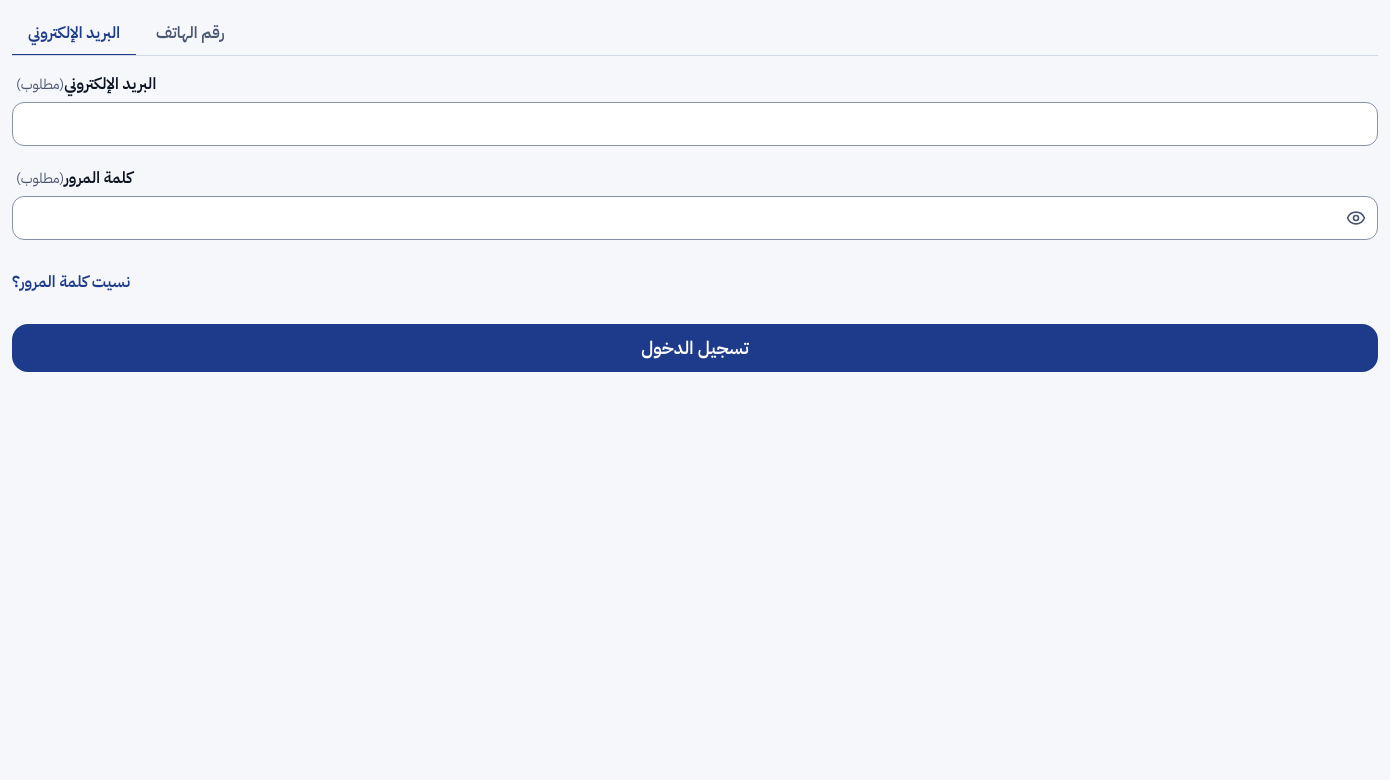
Test: LoginForm › says why an unverified address cannot sign in and offers to resend the link
In the field labelled "البريد الإلكتروني(مطلوب)": (695, 124) [12,102,1378,146], type "Sara@Example.com"
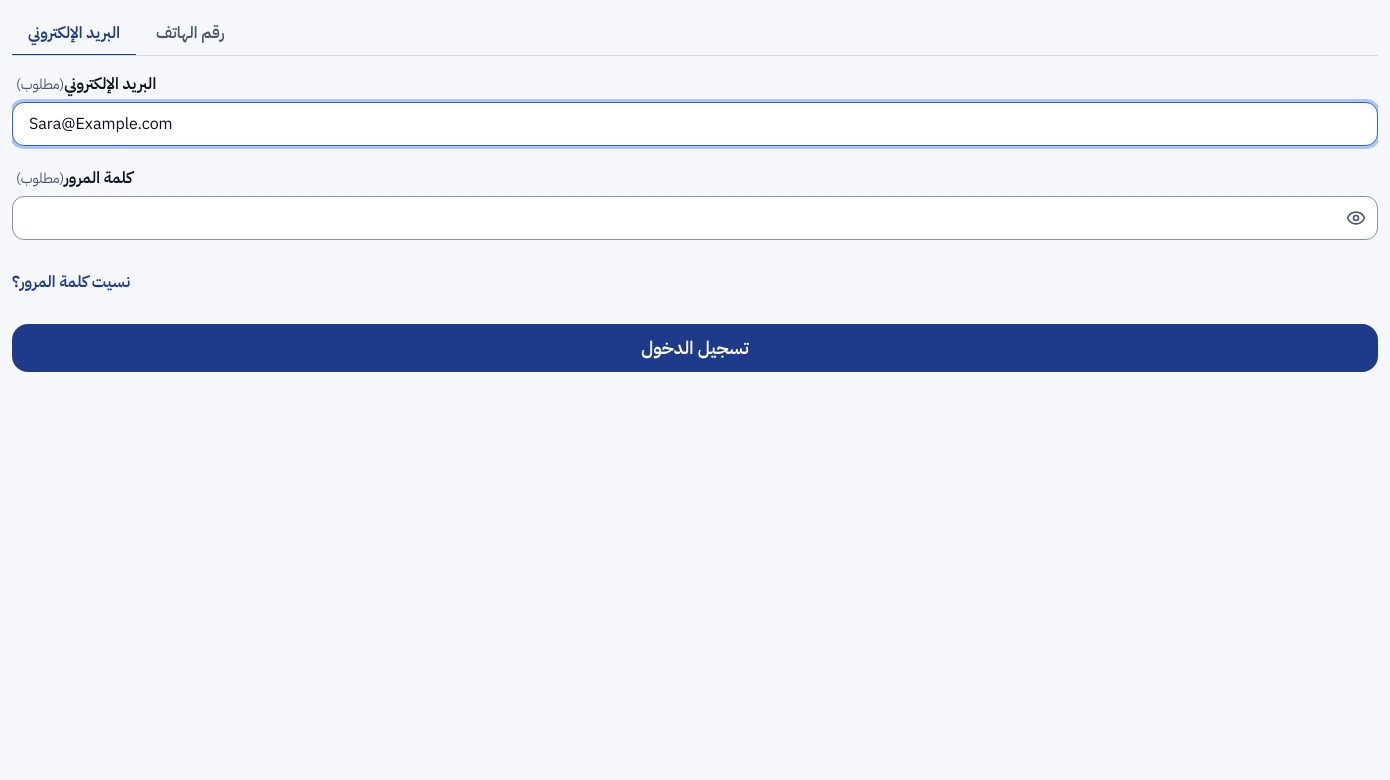
In the password field named "password": (695, 218) [12,196,1378,240], type "secret"
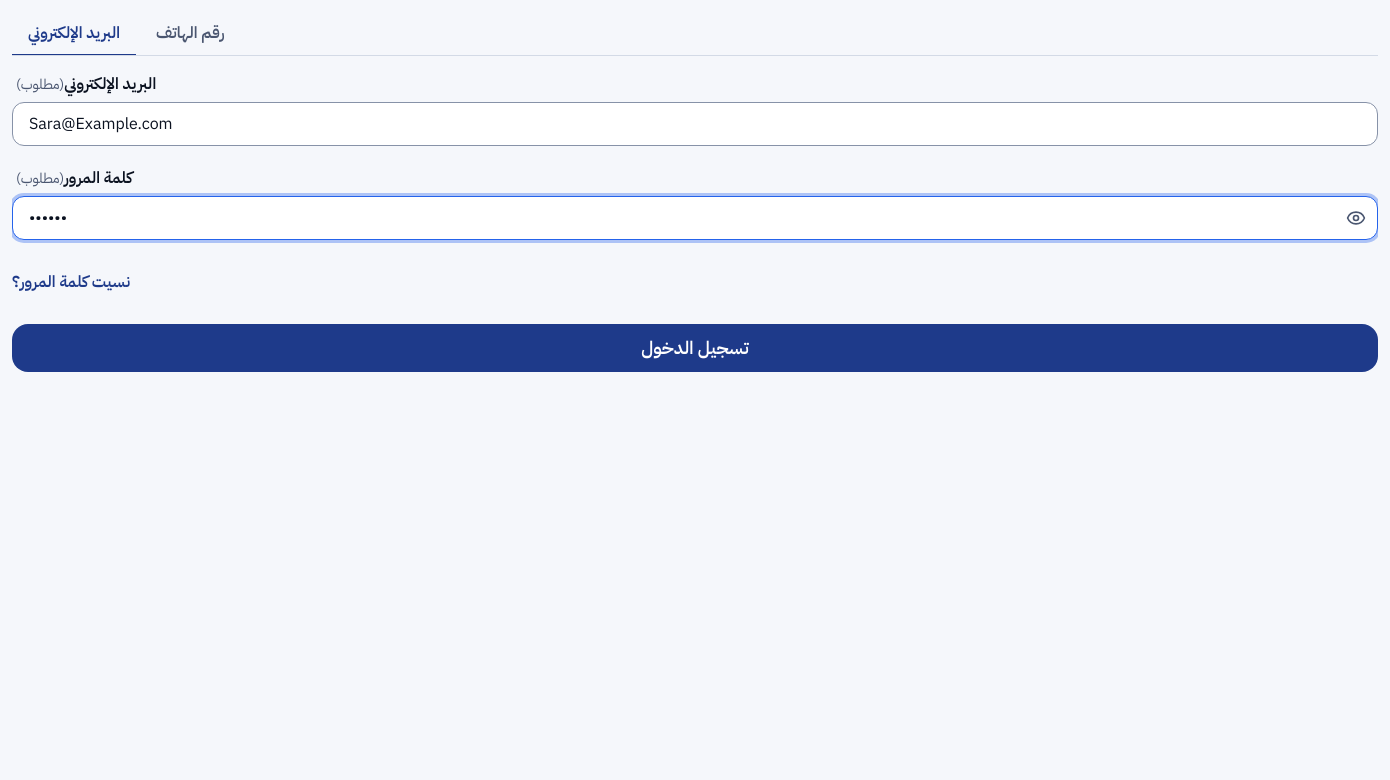
Click the button "تسجيل الدخول": (695, 348) [12,324,1378,372]
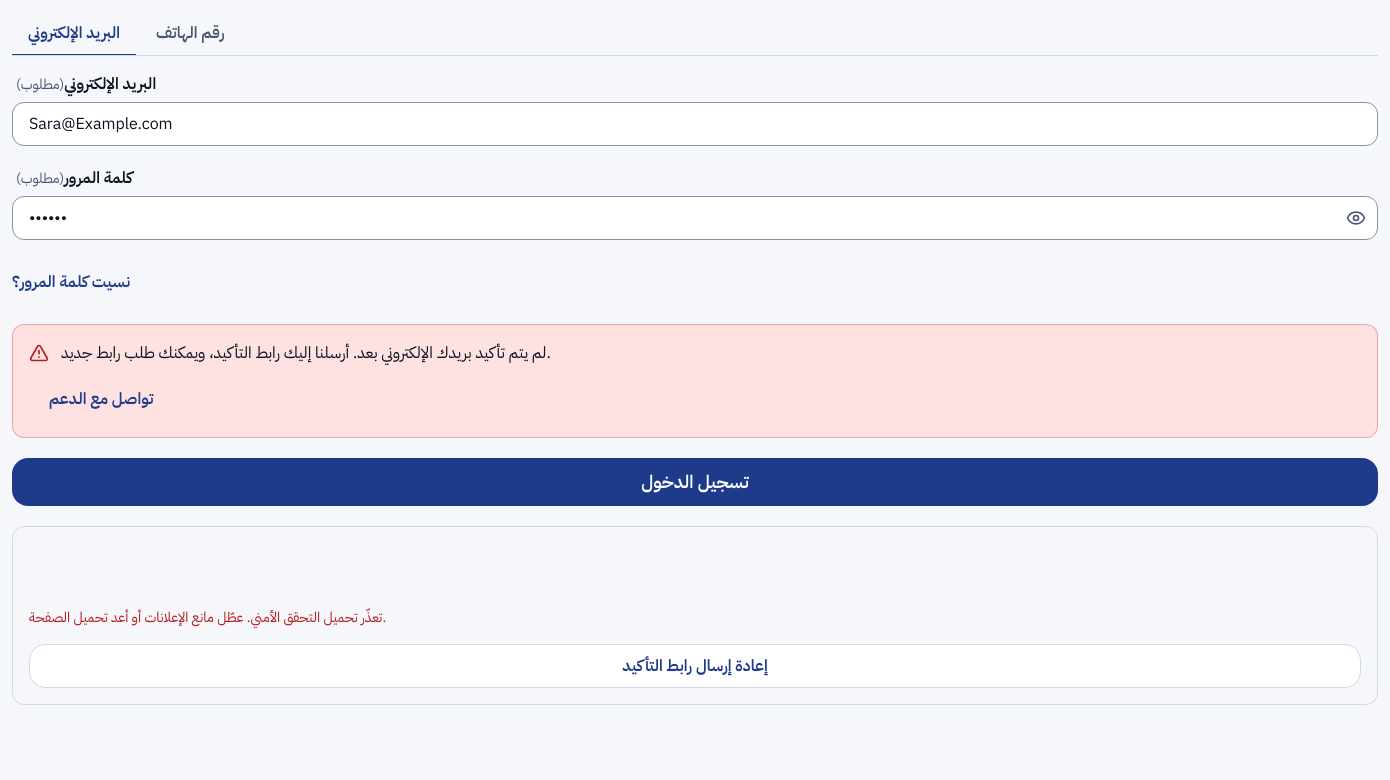
Now the text "لم يتم تأكيد بريدك الإلكتروني بعد. أرسلنا إليك رابط التأكيد، ويمكنك طلب رابط جديد." is shown, box [61,341,551,365]
Now the button "إعادة إرسال رابط التأكيد" is shown, box [29,644,1361,688]
